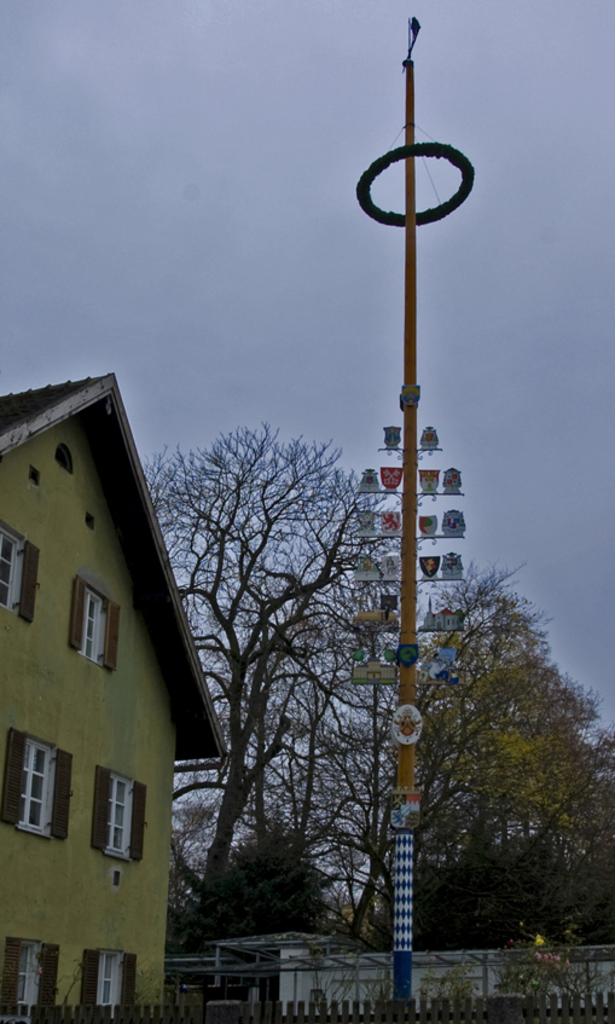Tree: (138, 414, 412, 947), (415, 556, 613, 941)
